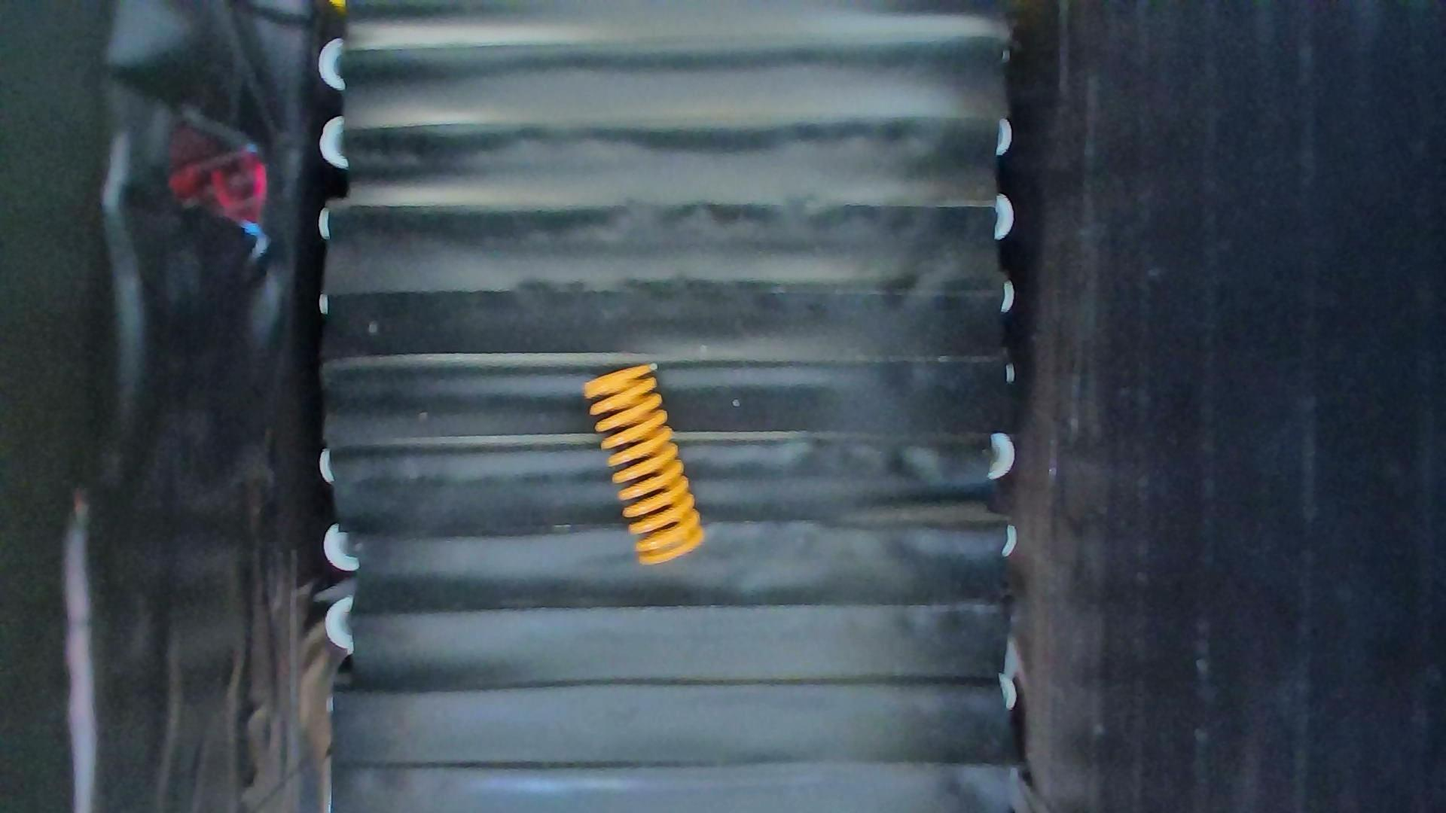spring: (580, 363, 706, 565)
